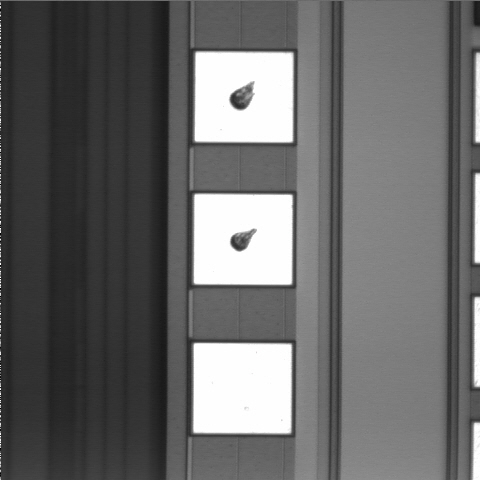pad: (194, 194, 293, 285), (193, 343, 292, 433), (195, 52, 293, 142)
